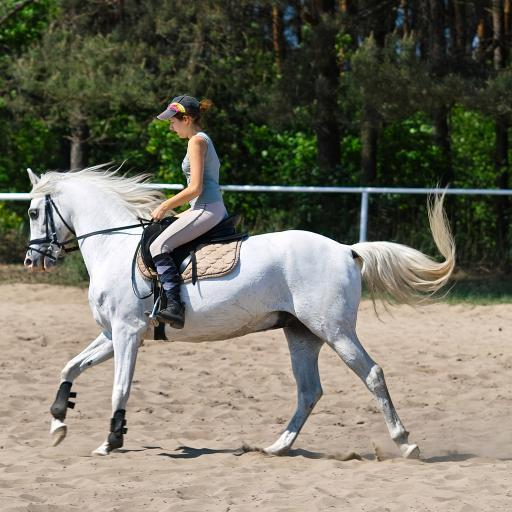horse: (24, 158, 458, 461)
